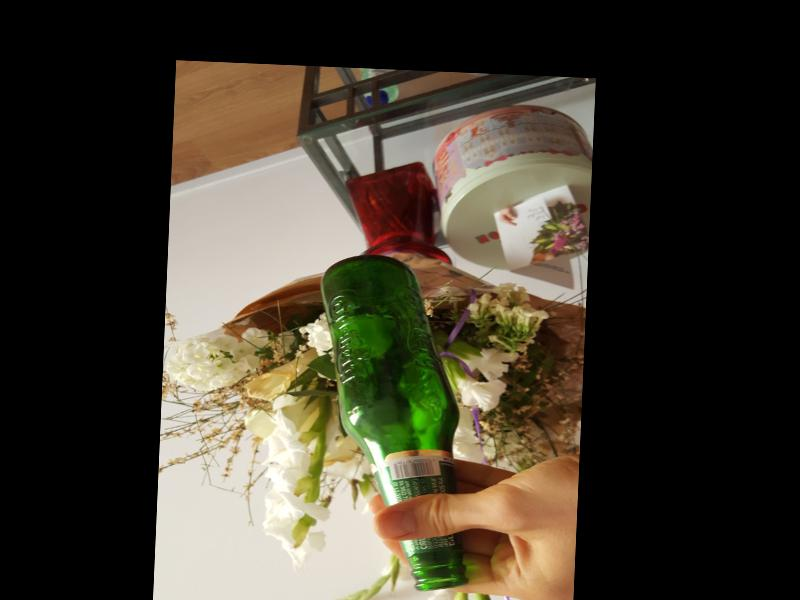Beer: (308, 253, 466, 592)
